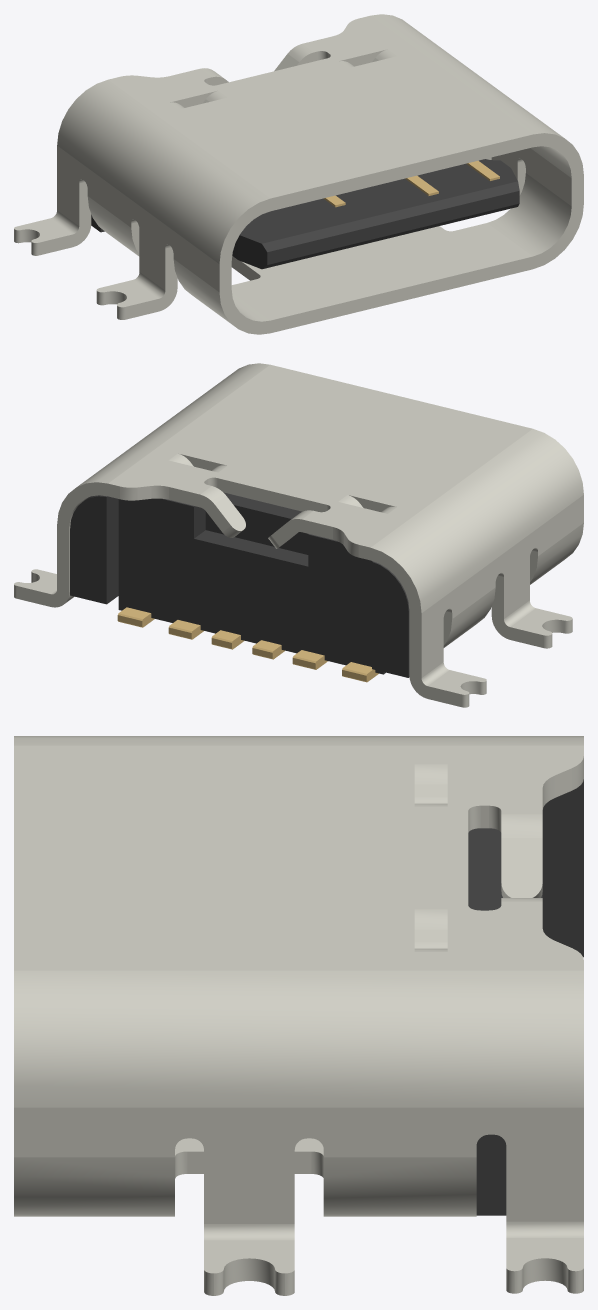
The model's file is kc-usb_c_receptacle_gct_usb4135-gf-a_6p_topmnt_horizontal.glb.
3 views of the same model, one above another, from view 1: azimuth 30°, elevation 25°; view 2: azimuth 150°, elevation 25°; view 3: azimuth 270°, elevation 25° (orthographic). The views are drawn at different scales.
Parts seen in each view (by area): view 1: 0.6666666666666666_0.6666666666666666_0.5833333333333334_0.8, 0.08333333333333333_0.08333333333333333_0.08333333333333333_, 0.75_0.5_0.25_0.9; view 2: 0.6666666666666666_0.6666666666666666_0.5833333333333334_0.8, 0.08333333333333333_0.08333333333333333_0.08333333333333333_, 0.75_0.5_0.25_0.9; view 3: 0.6666666666666666_0.6666666666666666_0.5833333333333334_0.8, 0.08333333333333333_0.08333333333333333_0.08333333333333333_.
Boxes of the visible parts, box(x1,y1,x2,y2) form: 0.6666666666666666_0.6666666666666666_0.5833333333333334_0.8: box(14, 14, 583, 334); 0.08333333333333333_0.08333333333333333_0.08333333333333333_: box(91, 159, 519, 269); 0.75_0.5_0.25_0.9: box(323, 160, 499, 207); 0.6666666666666666_0.6666666666666666_0.5833333333333334_0.8: box(14, 363, 583, 707); 0.08333333333333333_0.08333333333333333_0.08333333333333333_: box(70, 492, 409, 677); 0.75_0.5_0.25_0.9: box(117, 607, 378, 682); 0.6666666666666666_0.6666666666666666_0.5833333333333334_0.8: box(14, 736, 583, 1295); 0.08333333333333333_0.08333333333333333_0.08333333333333333_: box(468, 779, 583, 1215).
Size of the model in its own units: 1.11 by 0.326 by 0.69.
